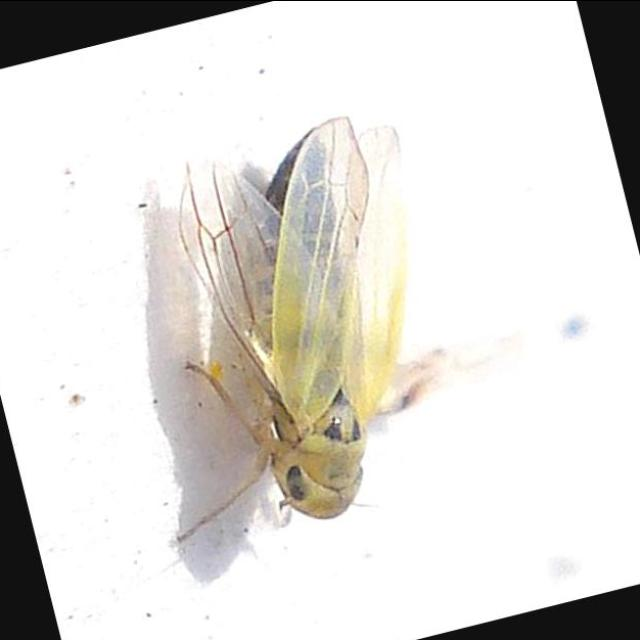green leaf hopper: (179, 116, 412, 541)
